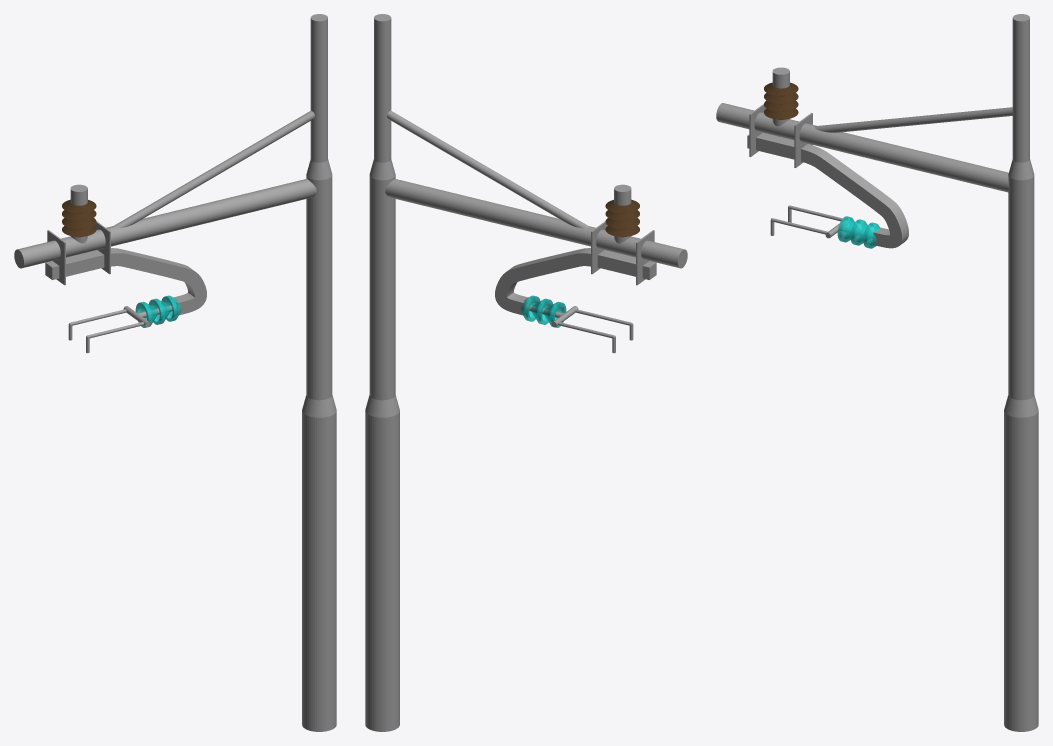
File: paloR.obj
3 renders of one model, left to right at view 1: azimuth 30°, elevation 25°; view 2: azimuth 150°, elevation 25°; view 3: azimuth 330°, elevation 25°, orthographic.
Visible parts, largest first — view 1: Cylinder.012_Cylinder.007, Cone.001; view 2: Cylinder.012_Cylinder.007, Cone.001; view 3: Cylinder.012_Cylinder.007, Cone.001.
Part boxes in pixels (box(x1,y1,x2,y2)): Cylinder.012_Cylinder.007: box(302, 14, 336, 731); Cone.001: box(14, 110, 316, 353); Cylinder.012_Cylinder.007: box(365, 14, 399, 731); Cone.001: box(385, 110, 687, 353); Cylinder.012_Cylinder.007: box(1004, 14, 1038, 731); Cone.001: box(716, 67, 1012, 248).
Bounding box in the file's own units: 21 × 45 × 2.5.
